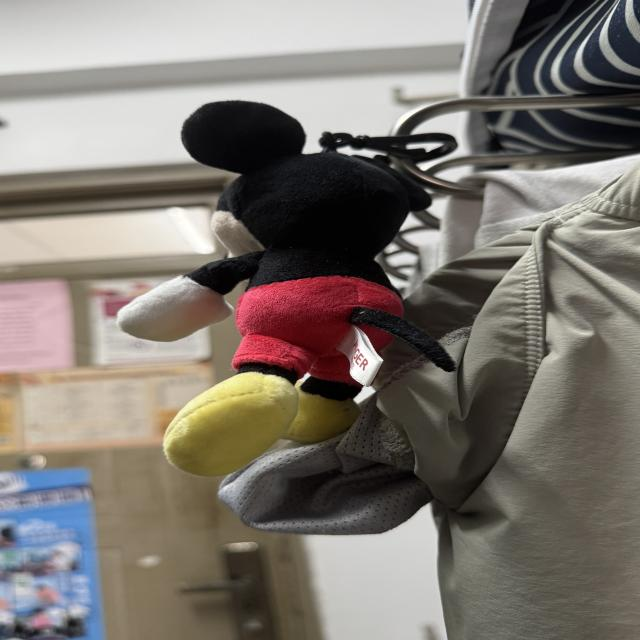mickey: (119, 102, 453, 475)
